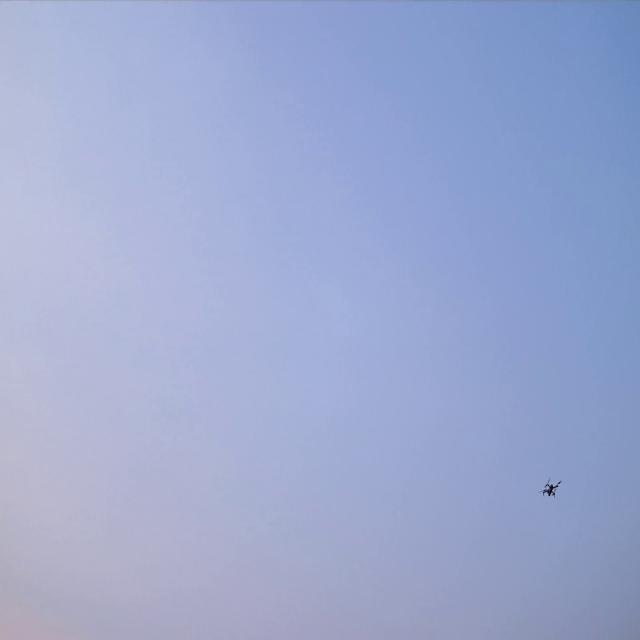UAV: (543, 482, 559, 495)
